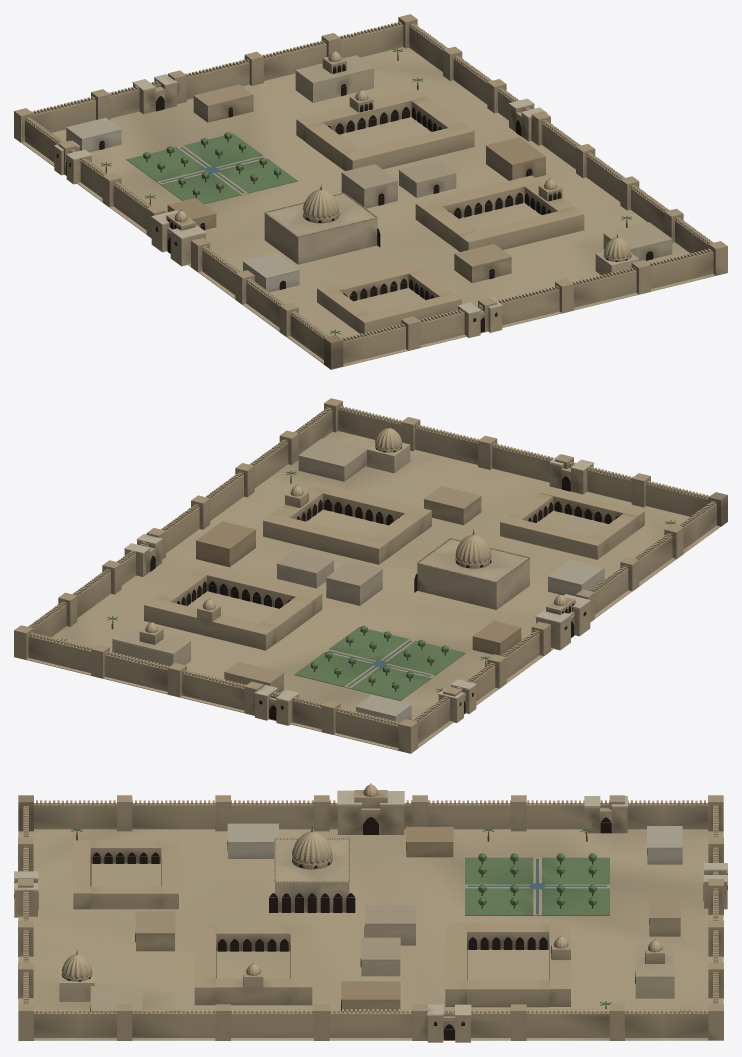
File: eastern-palace.glb
3 renders of one model, top to bottom at view 1: azimuth 30°, elevation 25°; view 2: azimuth 150°, elevation 25°; view 3: azimuth 270°, elevation 25°, orthographic. The views are drawn at different scales.
Visible parts, largest first — view 1: p2_courts, p0_ground, p1_walls, p3_domes; view 2: p2_courts, p0_ground, p1_walls, p3_domes; view 3: p0_ground, p2_courts, p1_walls, p3_domes.
Boxes of the visible parts, x1,y1,x2,y2 form: p2_courts: (66,55,672,334); p0_ground: (21,47,727,369); p1_walls: (14,14,727,369); p3_domes: (101,48,638,334); p2_courts: (112,438,644,722); p0_ground: (26,431,720,753); p1_walls: (14,398,727,753); p3_domes: (57,424,675,692); p0_ground: (18,829,723,1040); p2_courts: (73,823,682,1011); p1_walls: (14,783,727,1042); p3_domes: (59,826,690,1011).
Size of the model in its own units: 266 by 37.3 by 364.
